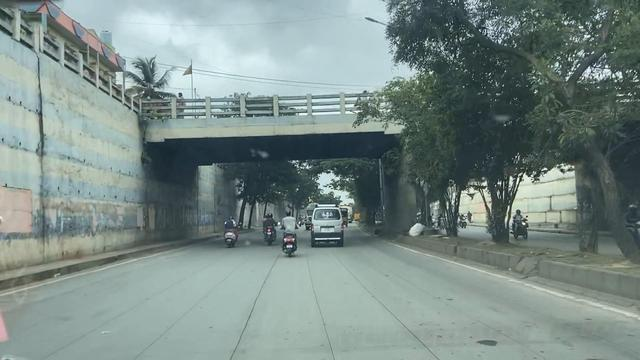LMV: (271, 214, 304, 261), (314, 204, 348, 249), (253, 211, 278, 246), (225, 217, 241, 249)
